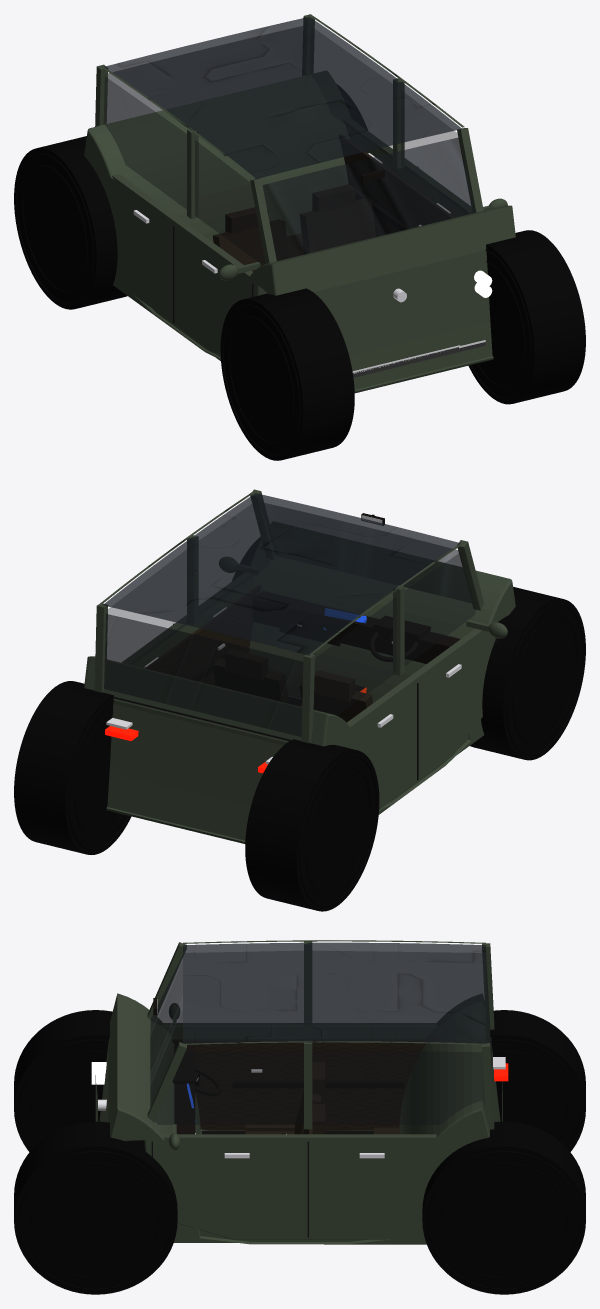
Rendered from offroad.glb.
3 views of the same model, one above another, from view 1: azimuth 30°, elevation 25°; view 2: azimuth 150°, elevation 25°; view 3: azimuth 270°, elevation 25° (orthographic).
Visible parts, largest first — view 1: BodyShell, Wheel (×3), PanoramicRoof, Windshield, RearWindow, SideWinR_-1, SideWinF_-1, InnerDoorCard_1, SeatBackF_1, SeatBackF_-1, DoorOuter_1, DoorSill_-1 (+10 smaller); view 2: BodyShell, Wheel (×3), PanoramicRoof, RearWindow, Windshield, SideWinR_-1, DashMain, SideWinF_-1, InnerDoorCard_1, SeatBackF_1, DoorOuter_1, DoorSill_-1 (+12 smaller); view 3: Wheel (×4), BodyShell, PanoramicRoof, InnerDoorCard_-1, SideWinR_1, SideWinF_1, Windshield, DoorOuter_-1, DoorSill_1, DoorSill_-1, DoorArmrest_-1, DashMain (+12 smaller).
Part boxes in pixels (x1,y1,x2,y2): BodyShell: (84,71,515,393); Wheel (×3): (14,136,585,460); PanoramicRoof: (104,17,461,179); Windshield: (263,137,474,260); RearWindow: (107,26,304,123); SideWinR_-1: (104,76,186,209); SideWinF_-1: (195,140,265,264); InnerDoorCard_1: (338,134,454,236); SeatBackF_1: (300,198,375,254); SeatBackF_-1: (212,219,288,271); DoorOuter_1: (346,125,465,217); DoorSill_-1: (112,174,252,277); BodyShell: (84,540,515,843); Wheel (×3): (14,586,585,911); PanoramicRoof: (103,493,460,655); RearWindow: (104,614,303,736); Windshield: (260,502,471,603); SideWinR_-1: (314,597,396,715); DashMain: (253,591,460,663); SideWinF_-1: (405,552,476,665); InnerDoorCard_1: (145,585,260,685); SeatBackF_1: (213,658,288,703); DoorOuter_1: (132,576,253,667); DoorSill_-1: (347,628,484,728); Wheel (×4): (14,1010,585,1294); BodyShell: (95,993,502,1244); PanoramicRoof: (183,942,485,1044); InnerDoorCard_-1: (172,1039,427,1130); SideWinR_1: (312,1050,484,1124); SideWinF_1: (155,1050,303,1124); Windshield: (150,955,182,1106); DoorOuter_-1: (166,1029,432,1130); DoorSill_1: (163,1134,436,1139); DoorSill_-1: (163,1023,436,1028); DoorArmrest_-1: (232,1081,404,1088); DashMain: (174,1046,195,1134).
Size of what is drawn, in the model's own units: 2.37 by 1.87 by 4.12.
18 materials, 3 textured.
